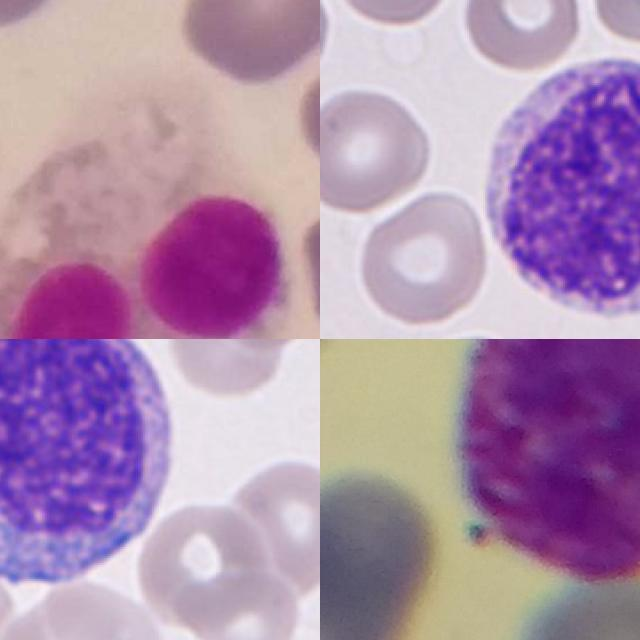Basophil: (457, 339, 640, 576)
Eosinophil: (0, 106, 297, 339)
Lymphocyte: (0, 339, 191, 603), (469, 42, 640, 333)
RBC: (355, 188, 492, 327), (134, 498, 271, 633), (320, 85, 435, 213), (225, 451, 320, 593), (460, 0, 582, 74), (0, 575, 136, 640), (187, 566, 303, 640), (161, 339, 289, 405), (52, 580, 166, 640), (325, 0, 460, 28)
